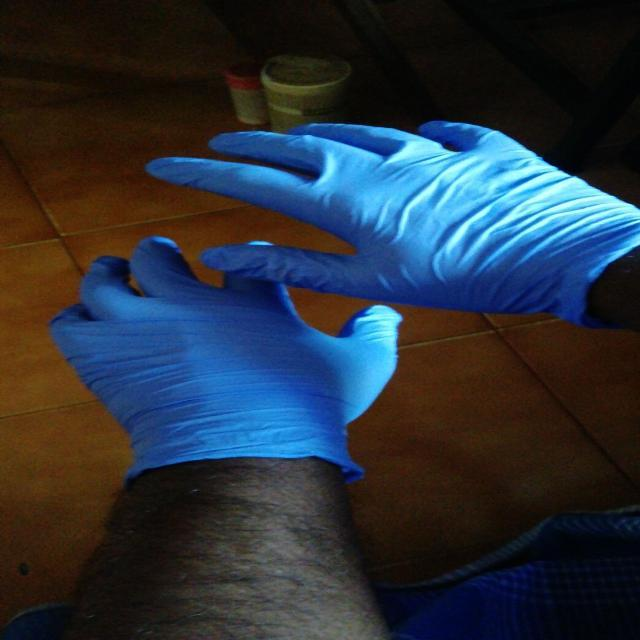glove_hand: (138, 114, 636, 336), (37, 234, 409, 504)
